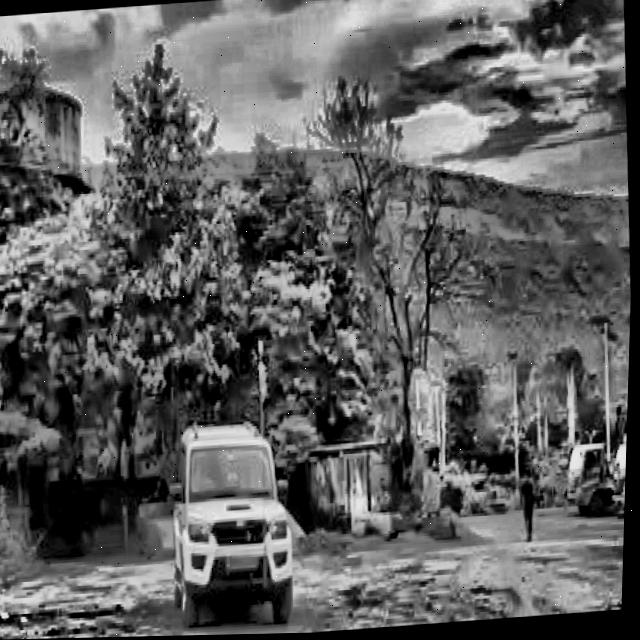light_vehicle: (169, 419, 307, 636)
